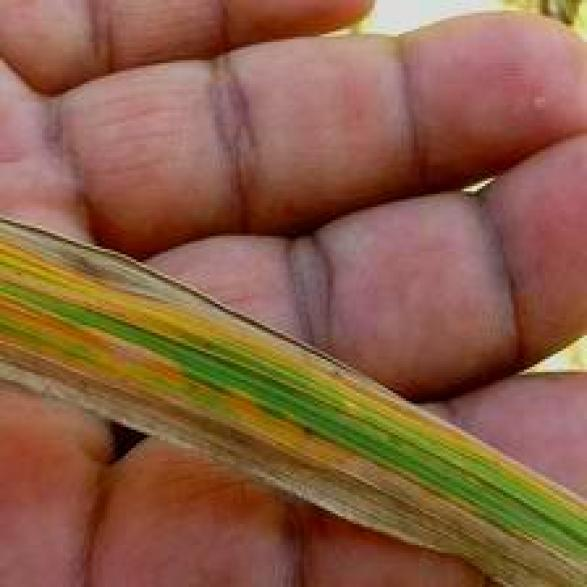Bacteria_Leaf_Blight: (5, 212, 469, 545)
